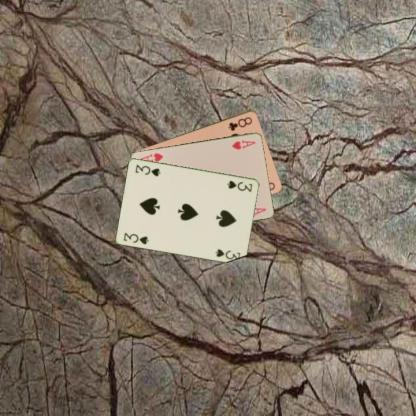3s: (121, 230, 150, 246), (224, 178, 254, 193)
8c: (226, 114, 253, 132)
Ah: (230, 137, 257, 150)
